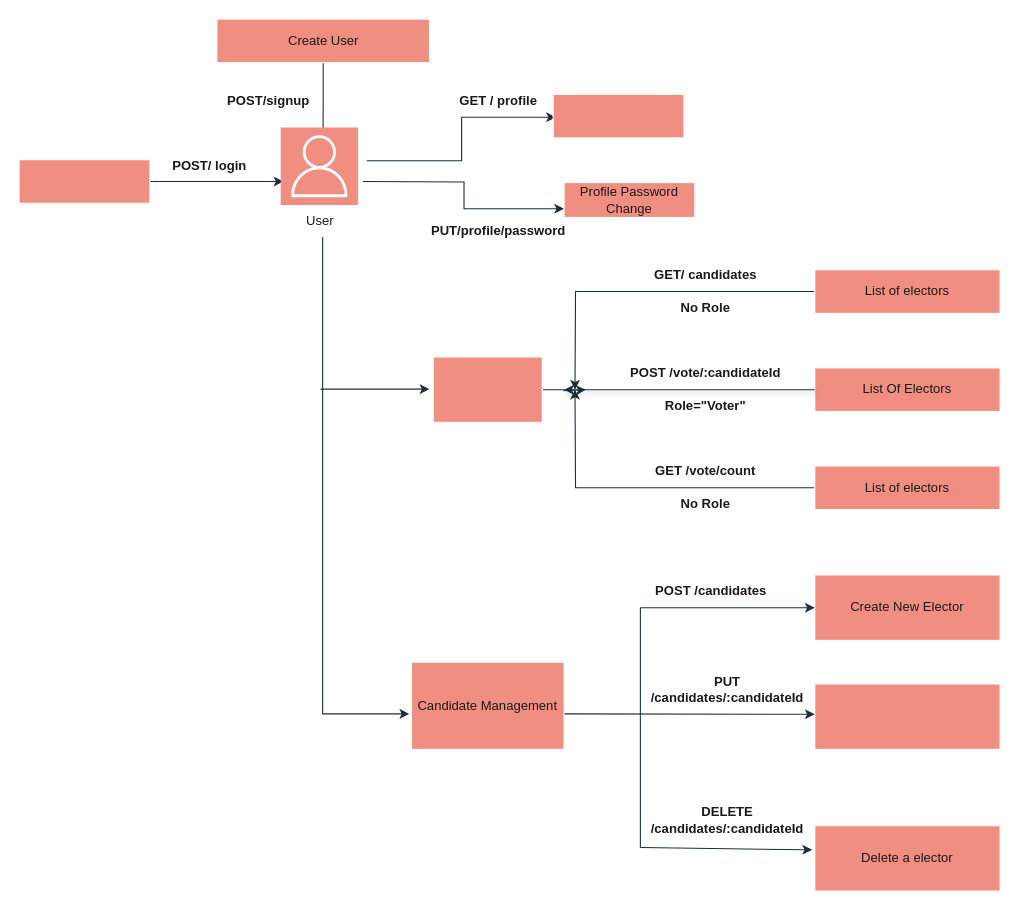
The diagram is 1019 pixels wide and 910 high, and some of its shapes have lost their labels. Here are the shapes that lost their labels. From the top down, the centre of each, then its label:
At pixel 618 115: "Access Profile".
At pixel 84 181: "Login User".
At pixel 487 389: "Vote".
At pixel 907 716: "Update Existing Elector".
